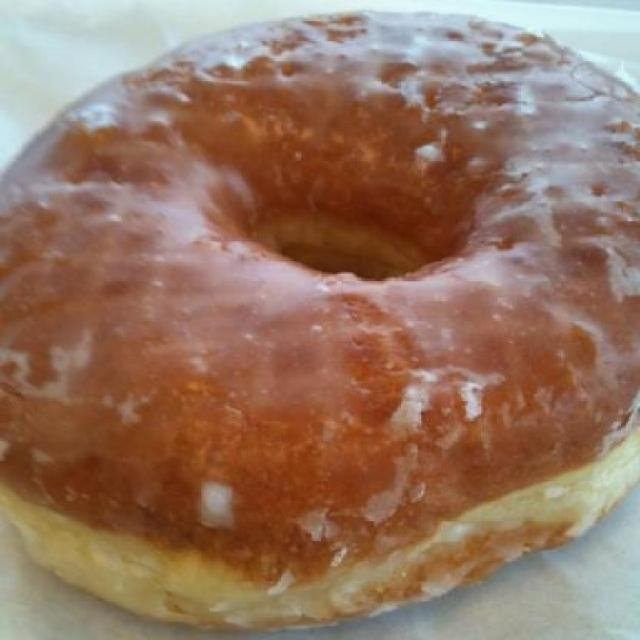Donuts: (6, 11, 640, 638)
